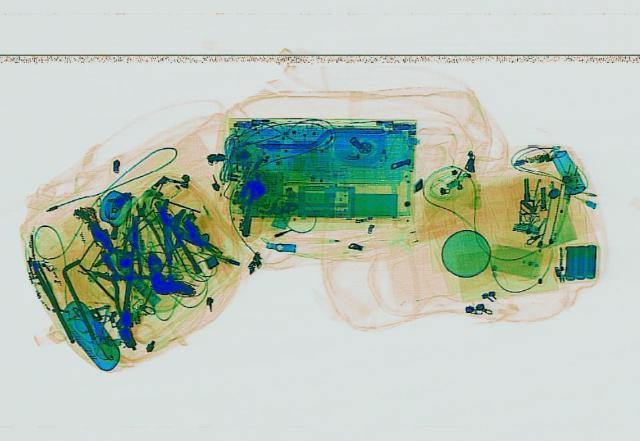Pliers: (111, 199, 171, 266)
